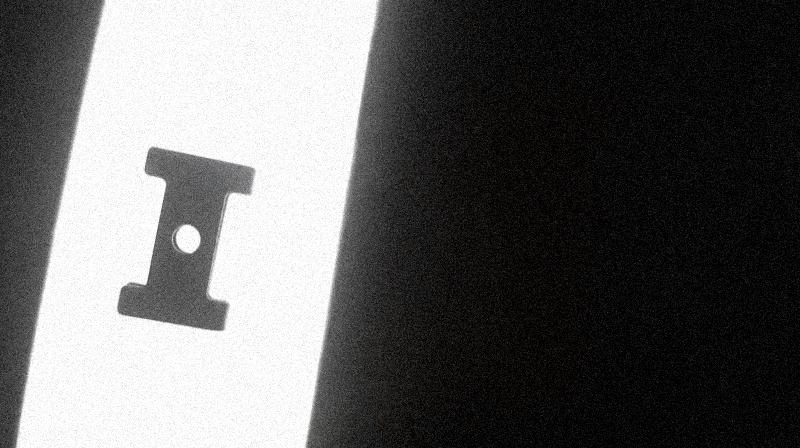O002: (112, 142, 256, 335)
